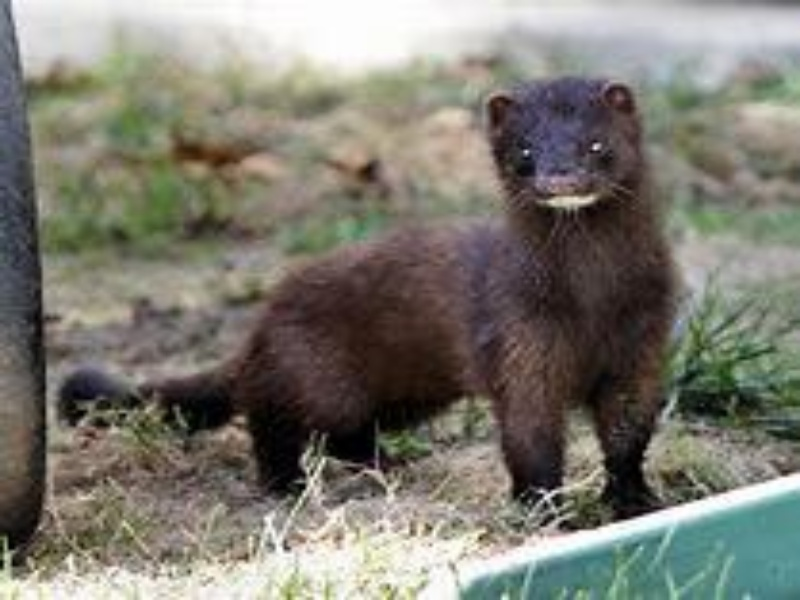minkish: (55, 65, 680, 524)
